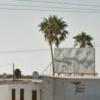Palm tree: (38, 10, 99, 52)
